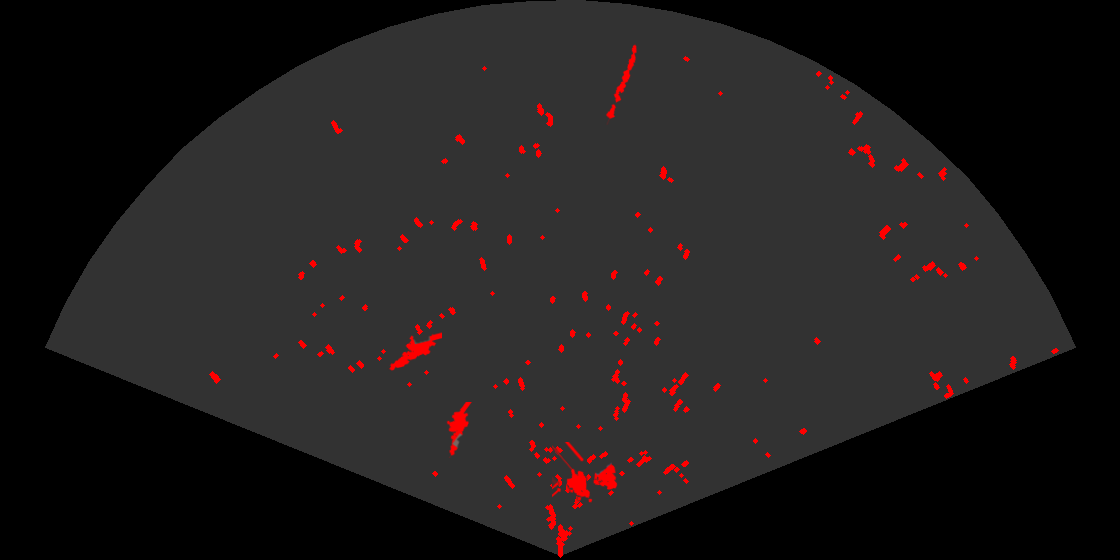cage: (552, 442, 619, 504)
chain: (604, 43, 639, 125)
frogman: (387, 331, 442, 372), (445, 402, 474, 458)
